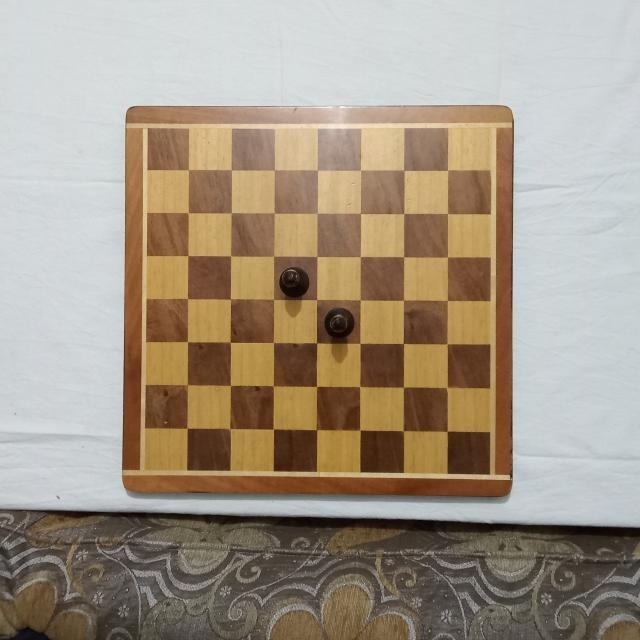black-bishop: (323, 304, 357, 339), (279, 266, 313, 298)
